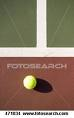tennis ball: (22, 74, 38, 90)
